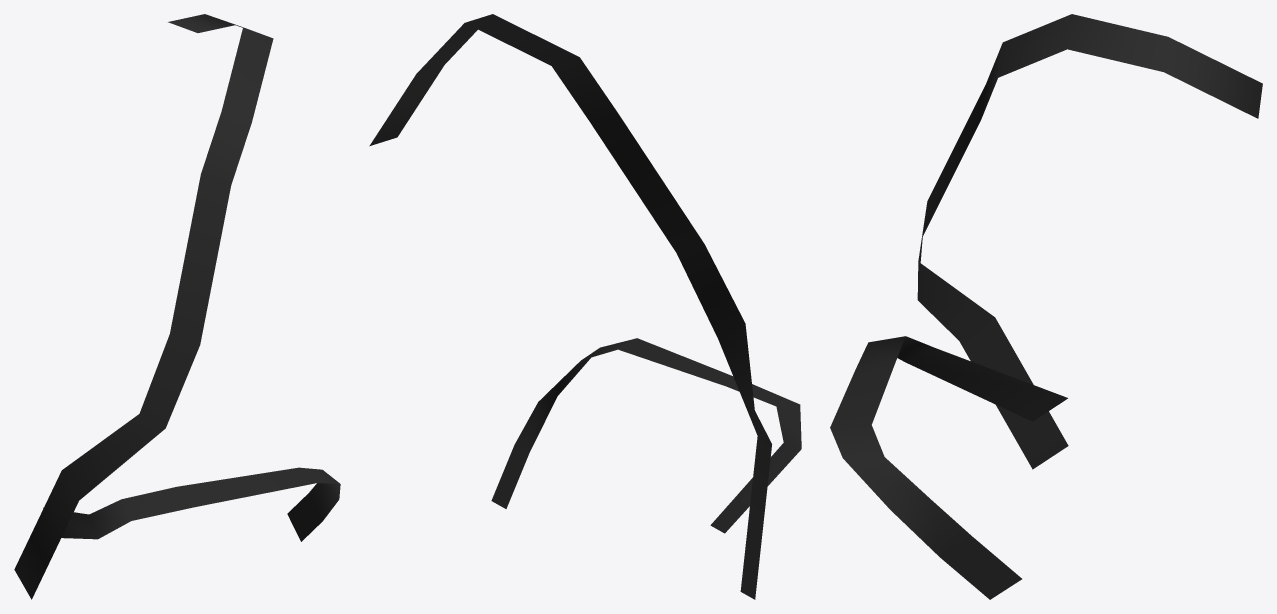
Rendered from seatbelt.fbx.
The picture shows the model from 3 angles, left to right: view 1: azimuth 30°, elevation 25°; view 2: azimuth 150°, elevation 25°; view 3: azimuth 270°, elevation 25°; orthographic projection. The views are drawn at different scales.
Visible parts, largest first — view 1: seatBelt; view 2: seatBelt; view 3: seatBelt.
Boxes of the visible parts, left/top/right/bottom form: seatBelt: left=14, top=14, right=340, bottom=599; seatBelt: left=369, top=14, right=801, bottom=599; seatBelt: left=830, top=14, right=1262, bottom=599.
Size of the model in its own units: 68.11 by 124 by 83.
